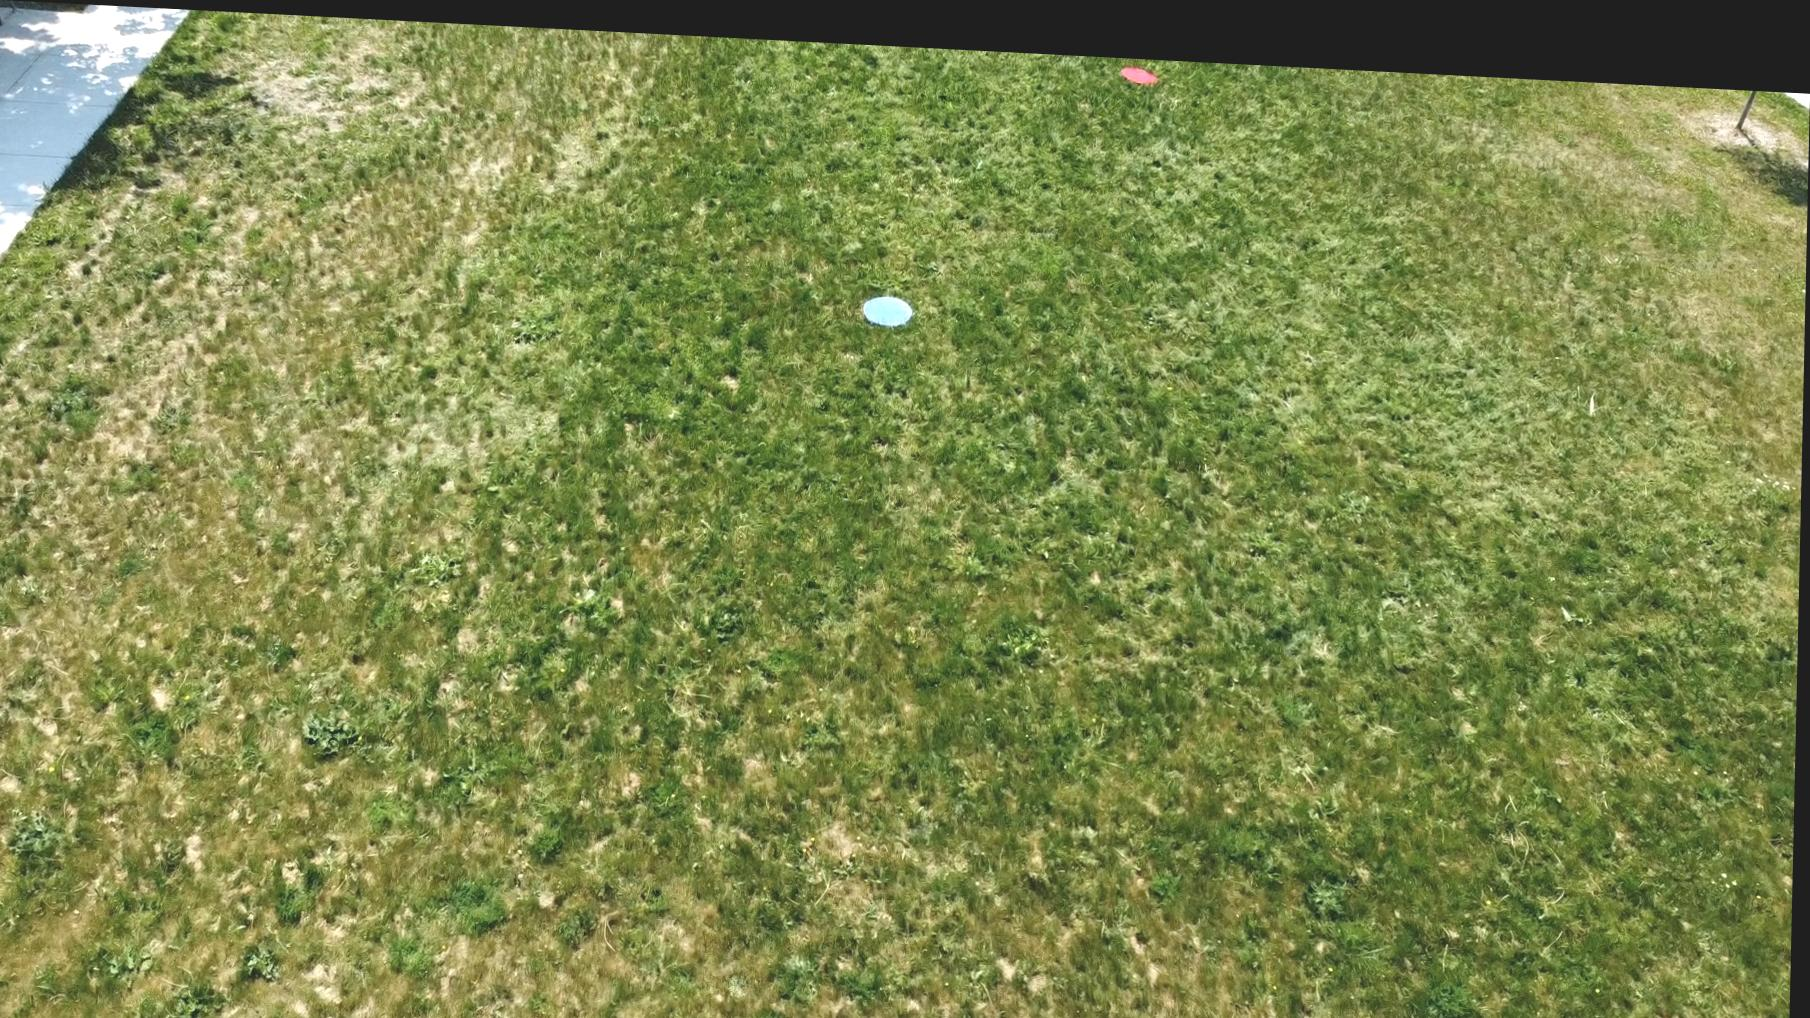Blue: (861, 283, 919, 319)
Red: (1116, 52, 1162, 75)
